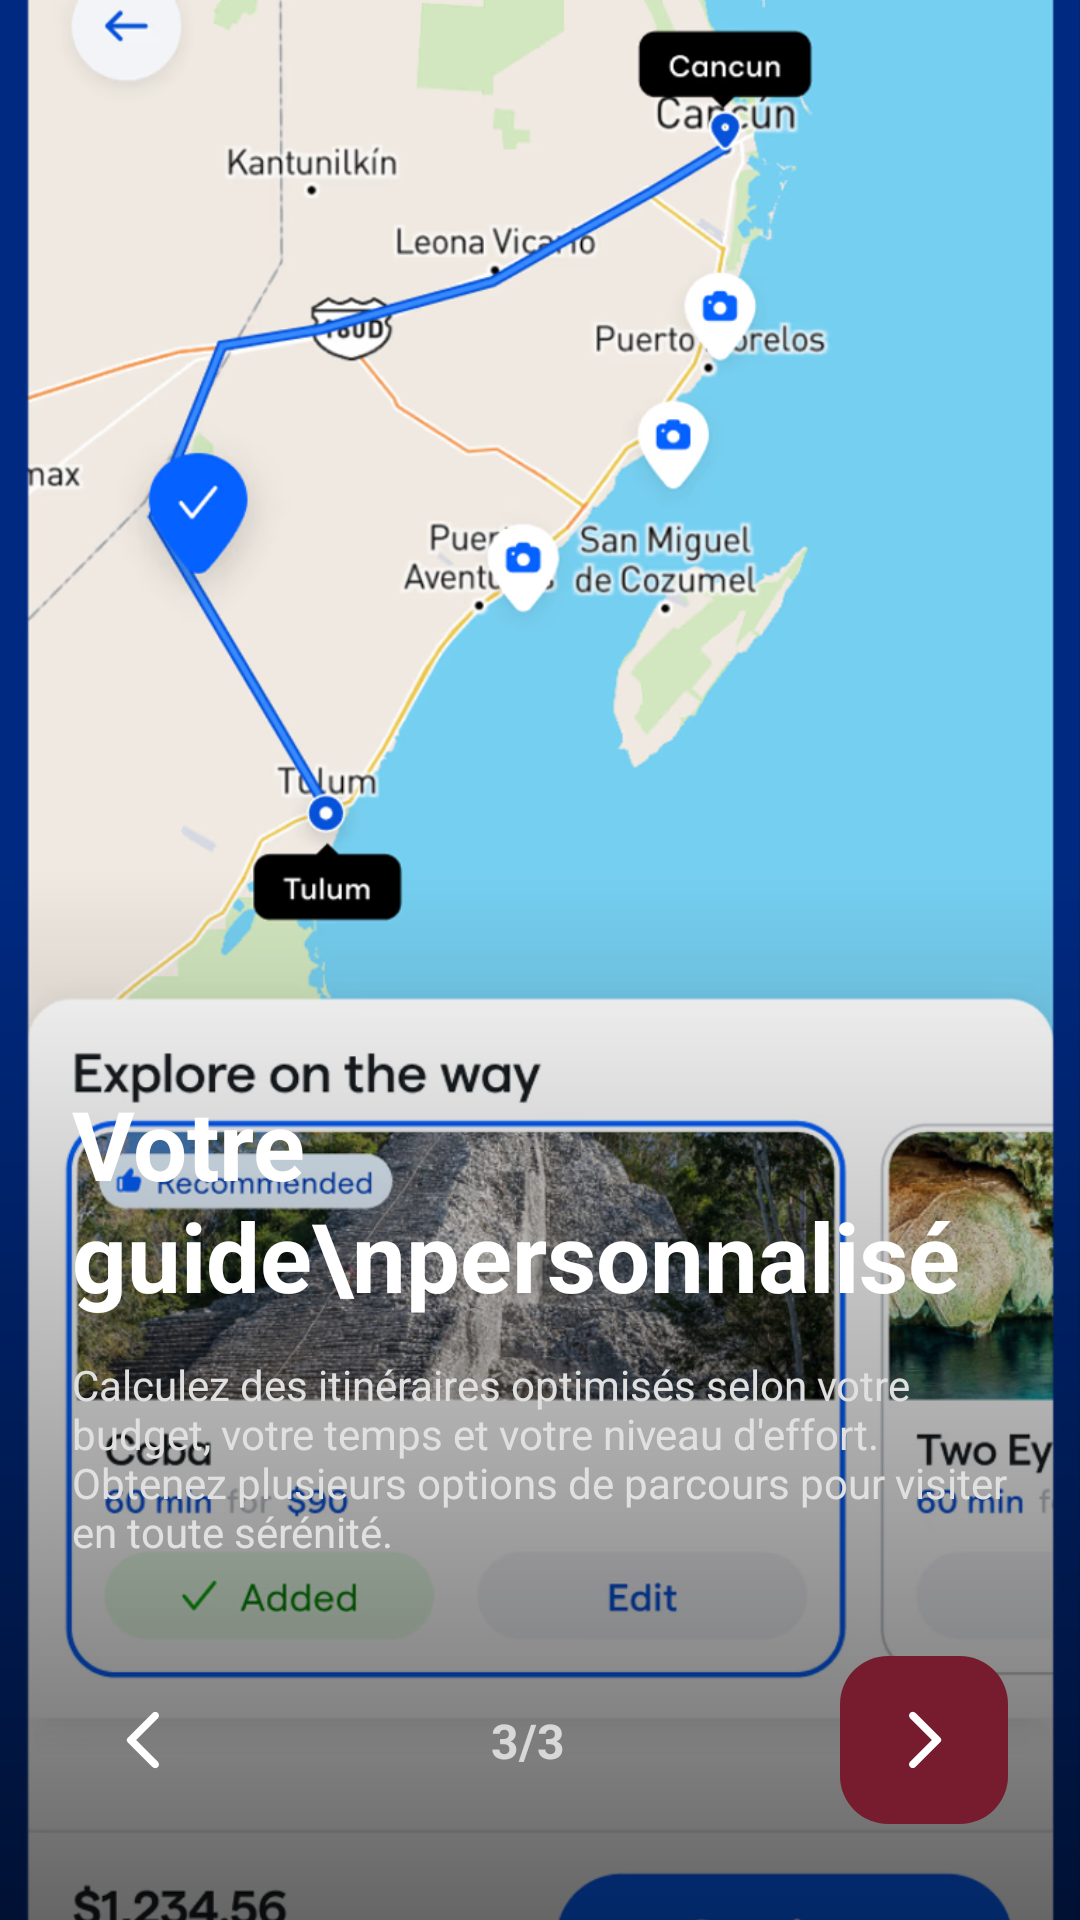

Where to tap for icons on this 1080 x 1920 app screen, as [x,y]:
chevron right: [924,1740]
